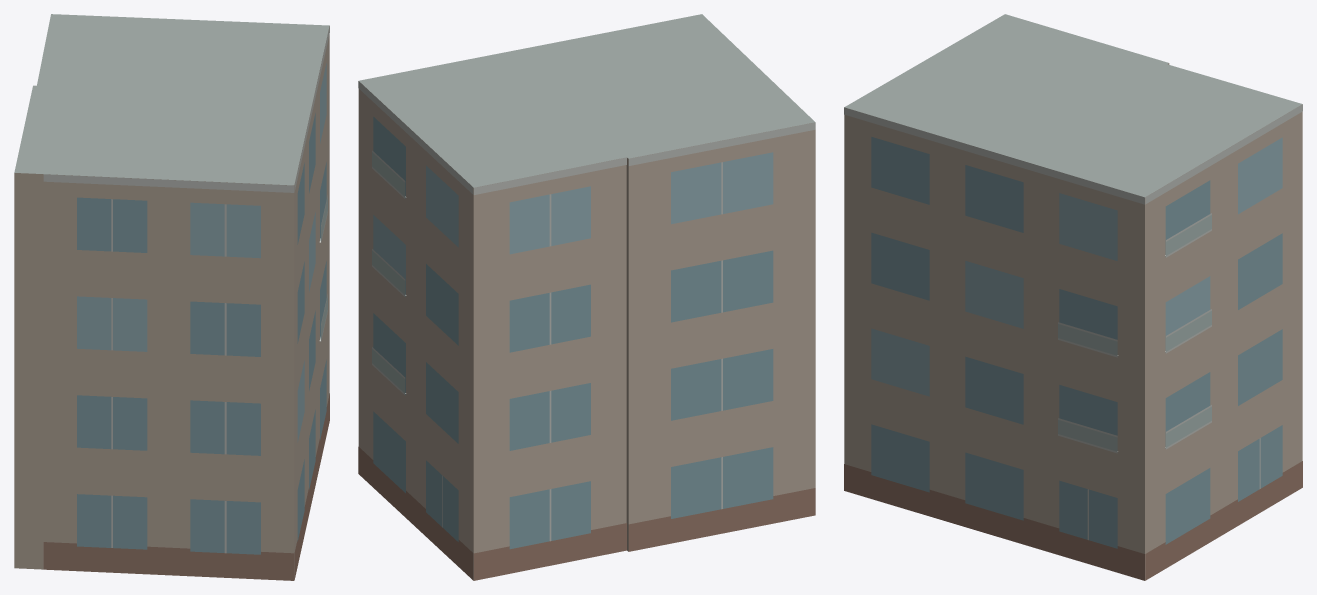
File: survey-upis-32832205.glb
The picture shows the model from 3 angles, left to right: view 1: azimuth 30°, elevation 25°; view 2: azimuth 150°, elevation 25°; view 3: azimuth 270°, elevation 25°; orthographic projection. The views are drawn at different scales.
Parts seen in each view (by area): view 1: survey-upis-32832205.tmp; view 2: survey-upis-32832205.tmp; view 3: survey-upis-32832205.tmp.
Part boxes in pixels (<box>): survey-upis-32832205.tmp: <box>14,14,329,580</box>; survey-upis-32832205.tmp: <box>358,14,815,580</box>; survey-upis-32832205.tmp: <box>844,14,1302,580</box>.
Bounding box in the file's own units: 13.12 × 12.78 × 13.86.
